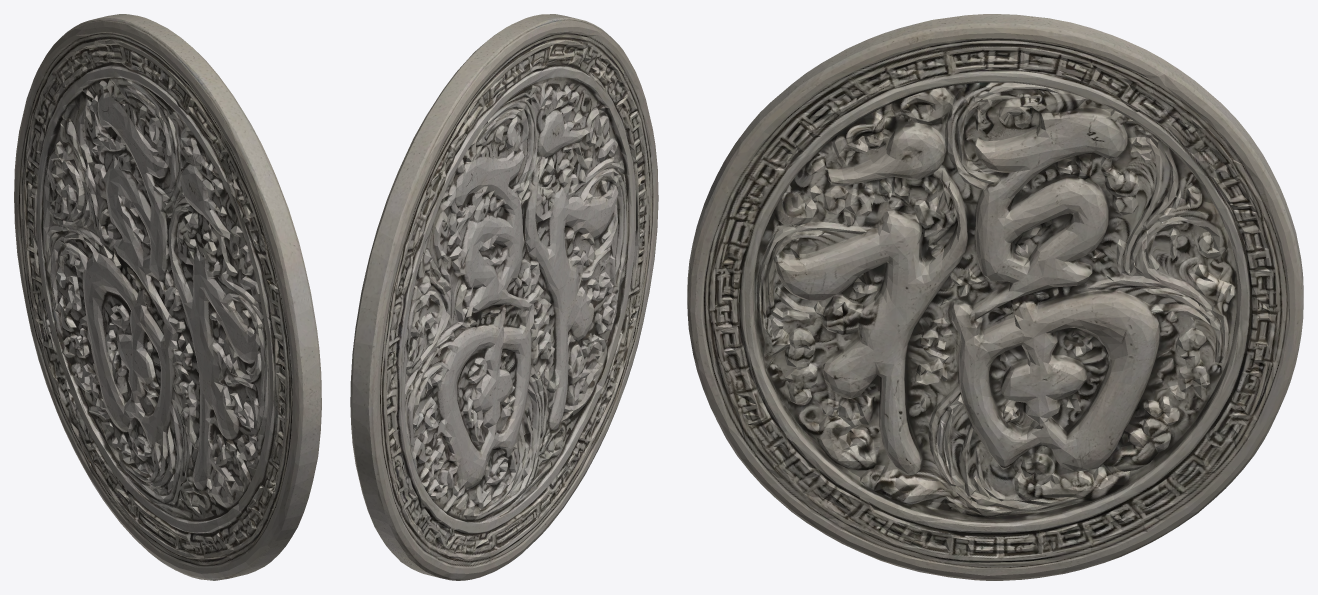
File: screenwall.glb
The picture shows the model from 3 angles, left to right: view 1: azimuth 30°, elevation 25°; view 2: azimuth 150°, elevation 25°; view 3: azimuth 270°, elevation 25°; orthographic projection. The views are drawn at different scales.
Visible parts, largest first — view 1: tripo_node_74376844-ef9c-4845-8607-fd734634f9e3; view 2: tripo_node_74376844-ef9c-4845-8607-fd734634f9e3; view 3: tripo_node_74376844-ef9c-4845-8607-fd734634f9e3.
Part boxes in pixels (bbox=[...]): tripo_node_74376844-ef9c-4845-8607-fd734634f9e3: bbox=[14, 14, 321, 580]; tripo_node_74376844-ef9c-4845-8607-fd734634f9e3: bbox=[350, 14, 658, 580]; tripo_node_74376844-ef9c-4845-8607-fd734634f9e3: bbox=[687, 14, 1303, 580].
Bounding box in the file's own units: 0.0605 × 0.9992 × 1.
1 material, 1 textured.
